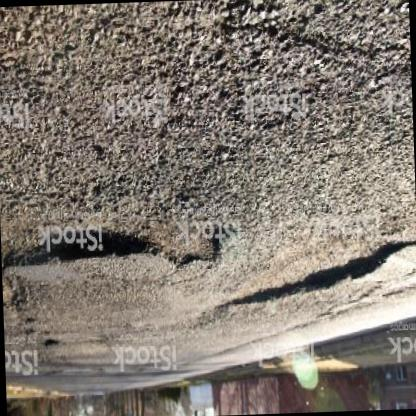pothole: (217, 220, 414, 314), (0, 207, 229, 278)
